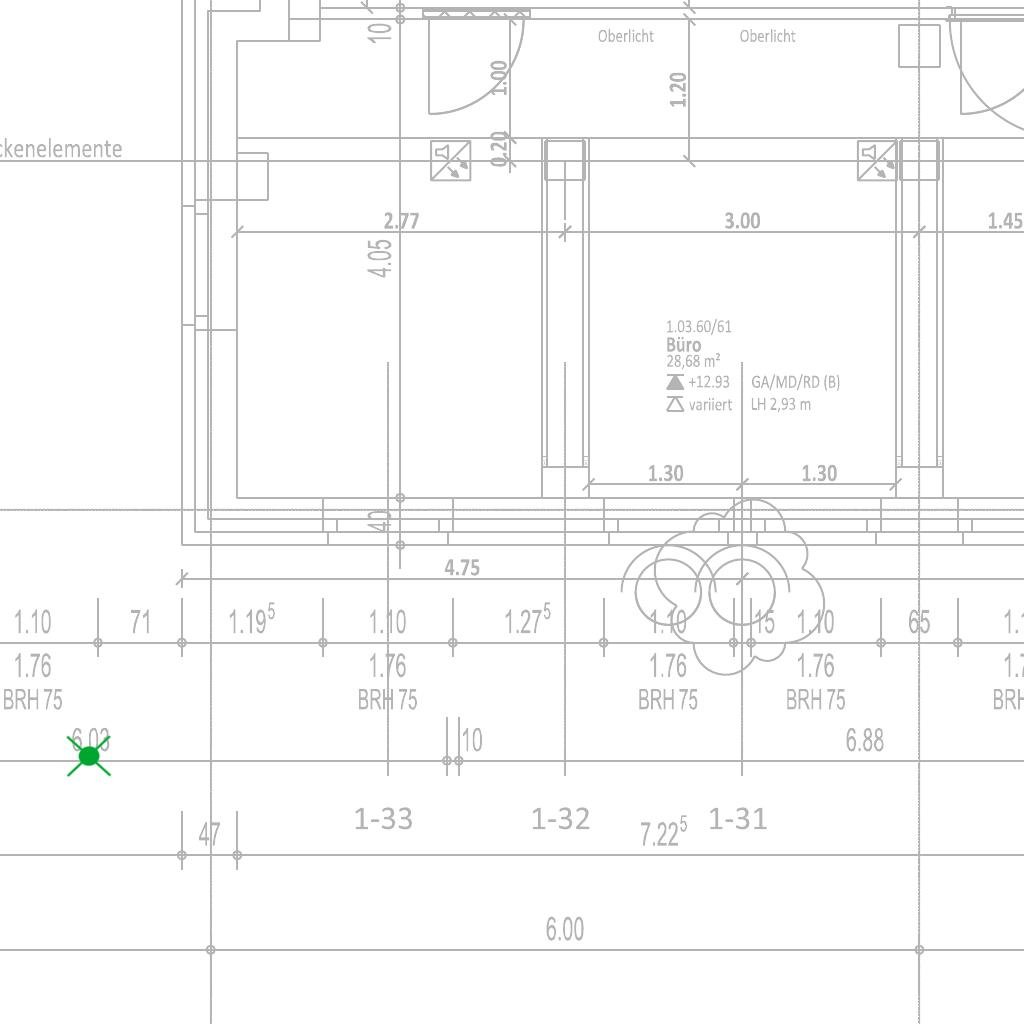Notlichtbaustein_in_Allgemeinbeleuchtug_engebaut_Einbau_(1UG_und_2UG_Aufbauvaria: (64, 730, 114, 781)
